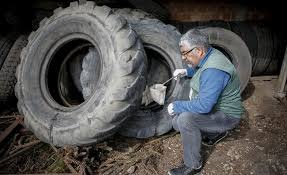tire: (13, 2, 148, 149), (81, 20, 199, 140), (176, 25, 253, 107), (1, 34, 36, 108)
